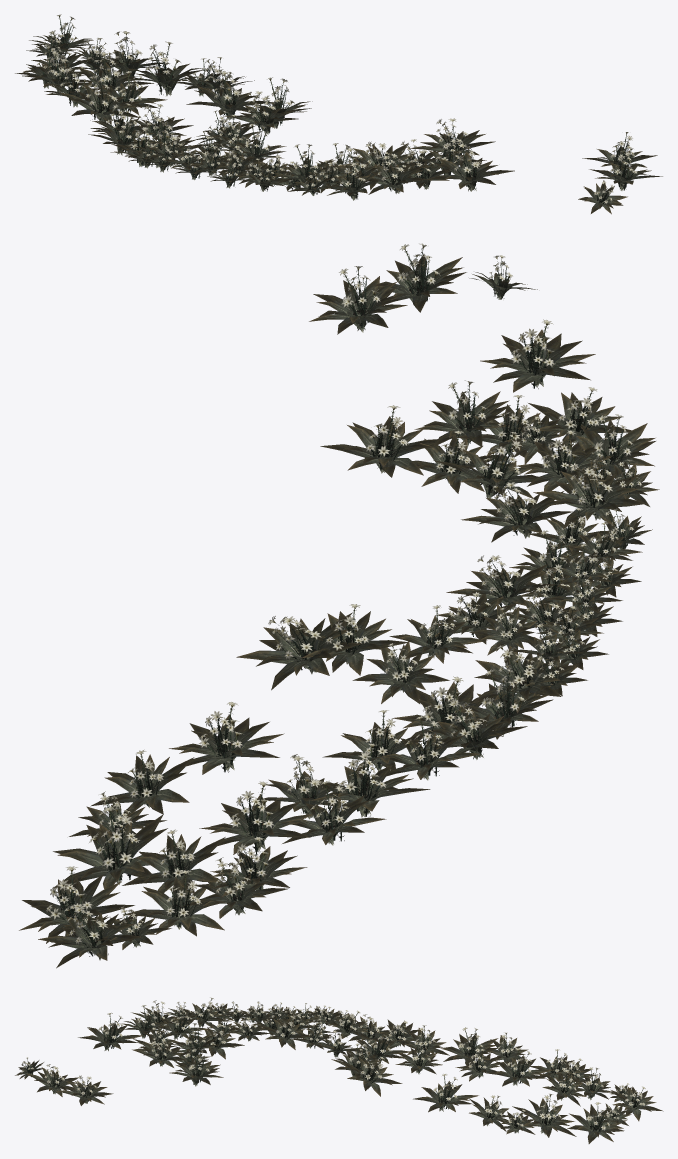
File: grass18.fbx
3 renders of one model, top to bottom at view 1: azimuth 30°, elevation 25°; view 2: azimuth 150°, elevation 25°; view 3: azimuth 270°, elevation 25°, orthographic. The views are drawn at different scales.
Parts seen in each view (by area): view 1: m111211_0:2, m111211_0:1; view 2: m111211_0:2, m111211_0:1; view 3: m111211_0:2, m111211_0:1.
Boxes of the visible parts, x1,y1,x2,y2 form: m111211_0:2: (88, 77, 662, 214); m111211_0:1: (15, 14, 270, 140); m111211_0:2: (236, 243, 659, 770); m111211_0:1: (19, 700, 480, 968); m111211_0:2: (15, 997, 424, 1105); m111211_0:1: (403, 1021, 663, 1143).
Size of the model in its own units: 51655 by 23821 by 109013.
2 materials, 2 textured.
